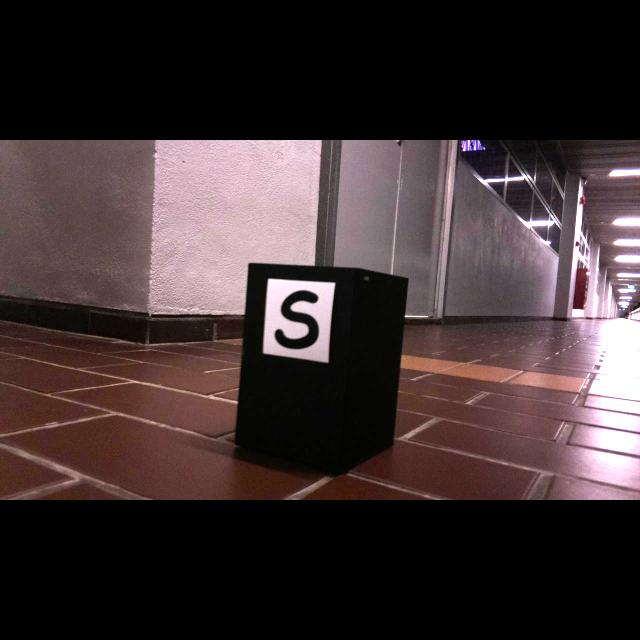S: (274, 290, 320, 350)
